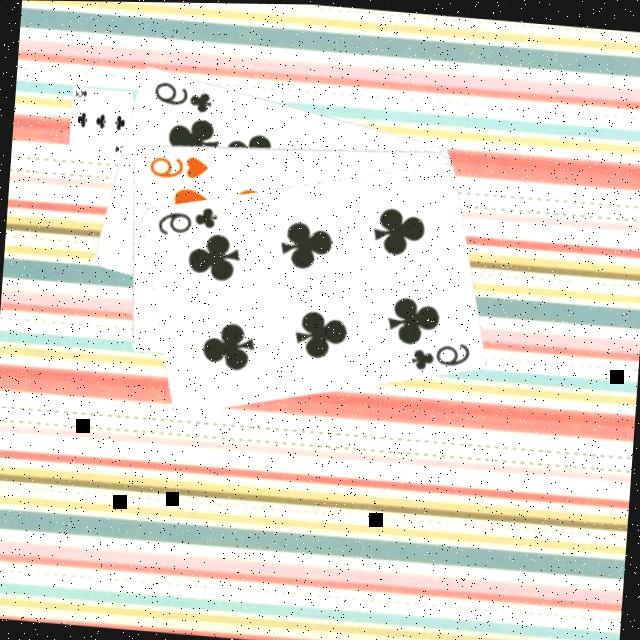6C: (152, 197, 219, 240), (406, 332, 472, 372)
9C: (148, 74, 215, 113)
9H: (143, 146, 210, 181)
